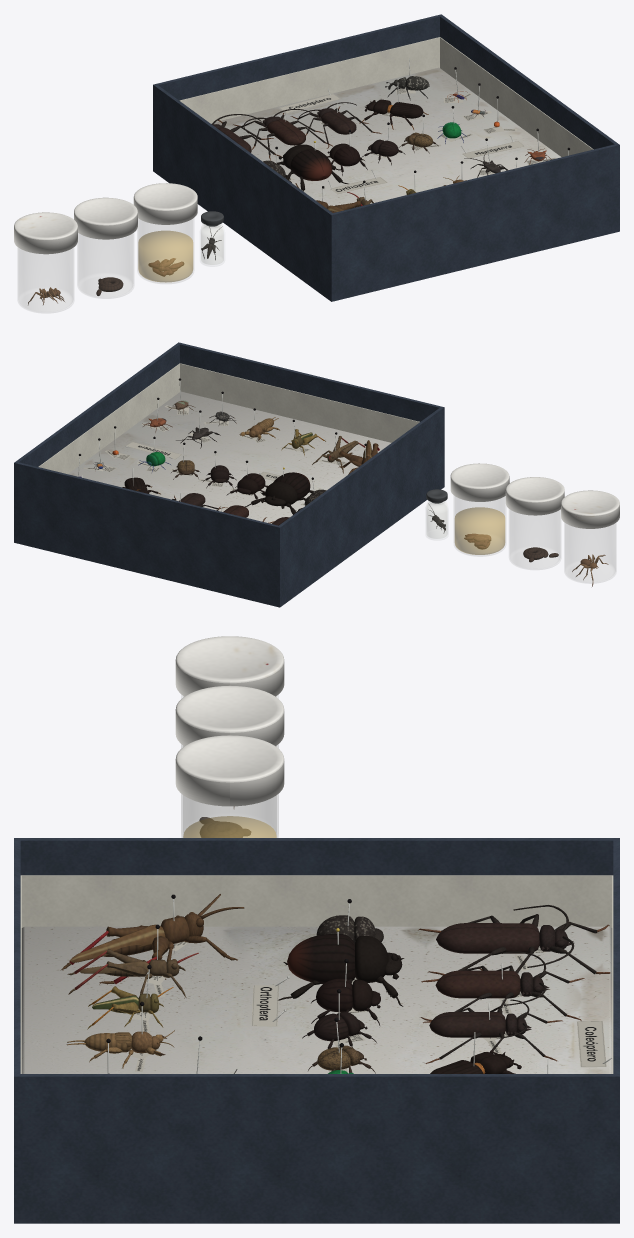
File: caixa_fauna_20_web.glb
3 views of the same model, one above another, from view 1: azimuth 30°, elevation 25°; view 2: azimuth 150°, elevation 25°; view 3: azimuth 270°, elevation 25° (orthographic). The views are drawn at different scales.
Visible parts, largest first — view 1: Caixa_Papelao_M20, Isopor_M20, Pote_3_Minhocas, Pote_2_Diplopode, Pote_1_Aracnideo, Conteudo_3_Minhocas, Inseto_10_Scarabaeidae, Rotulos_Ordens_M20, Inseto_02_Cerambycidae, Vidro_4_Grilo, Inseto_03_Cerambycidae, Inseto_04_Passalidae (+5 smaller); view 2: Caixa_Papelao_M20, Isopor_M20, Pote_1_Aracnideo, Pote_3_Minhocas, Pote_2_Diplopode, Conteudo_3_Minhocas, Inseto_10_Scarabaeidae, Vidro_4_Grilo, Inseto_11_Scarabaeidae, Inseto_16_Acrididae, Inseto_18_Gryllotalpidae, Inseto_15_Romaleidae (+4 smaller); view 3: Caixa_Papelao_M20, Isopor_M20, Pote_3_Minhocas, Pote_2_Diplopode, Pote_1_Aracnideo, Inseto_01_Cerambycidae, Inseto_10_Scarabaeidae, Inseto_15_Romaleidae, Inseto_02_Cerambycidae, Inseto_03_Cerambycidae, Rotulos_Ordens_M20, Inseto_16_Acrididae (+8 smaller).
Boxes of the visible parts, bbox=[...] form: Caixa_Papelao_M20: bbox=[153, 14, 619, 301]; Isopor_M20: bbox=[210, 67, 561, 205]; Pote_3_Minhocas: bbox=[133, 183, 197, 283]; Pote_2_Diplopode: bbox=[74, 197, 137, 298]; Pote_1_Aracnideo: bbox=[14, 212, 77, 312]; Conteudo_3_Minhocas: bbox=[138, 231, 192, 282]; Inseto_10_Scarabaeidae: bbox=[276, 141, 348, 191]; Rotulos_Ordens_M20: bbox=[279, 88, 524, 194]; Inseto_02_Cerambycidae: bbox=[233, 109, 332, 160]; Vidro_4_Grilo: bbox=[201, 211, 223, 264]; Inseto_03_Cerambycidae: bbox=[290, 102, 381, 148]; Inseto_04_Passalidae: bbox=[359, 82, 428, 129]; Caixa_Papelao_M20: bbox=[14, 342, 444, 607]; Isopor_M20: bbox=[68, 391, 390, 523]; Pote_1_Aracnideo: bbox=[561, 490, 619, 583]; Pote_3_Minhocas: bbox=[450, 463, 509, 556]; Pote_2_Diplopode: bbox=[505, 477, 564, 569]; Conteudo_3_Minhocas: bbox=[455, 507, 504, 554]; Inseto_10_Scarabaeidae: bbox=[245, 467, 314, 514]; Vidro_4_Grilo: bbox=[426, 489, 447, 538]; Inseto_11_Scarabaeidae: bbox=[226, 460, 267, 502]; Inseto_16_Acrididae: bbox=[312, 432, 365, 473]; Inseto_18_Gryllotalpidae: bbox=[239, 408, 279, 442]; Inseto_15_Romaleidae: bbox=[338, 440, 379, 474]; Caixa_Papelao_M20: bbox=[14, 838, 619, 1223]; Isopor_M20: bbox=[21, 926, 612, 1073]; Pote_3_Minhocas: bbox=[175, 735, 284, 837]; Pote_2_Diplopode: bbox=[175, 685, 284, 833]; Pote_1_Aracnideo: bbox=[175, 636, 284, 746]; Inseto_01_Cerambycidae: bbox=[418, 905, 610, 982]; Inseto_10_Scarabaeidae: bbox=[278, 928, 404, 1006]; Inseto_15_Romaleidae: bbox=[60, 894, 244, 984]; Inseto_02_Cerambycidae: bbox=[423, 951, 584, 1023]; Inseto_03_Cerambycidae: bbox=[420, 999, 562, 1063]; Rotulos_Ordens_M20: bbox=[183, 916, 612, 1067]; Inseto_16_Acrididae: bbox=[67, 924, 198, 998].
Bounding box in the file's own units: 0.485 × 0.0746 × 0.2787.
17 materials, 12 textured.
